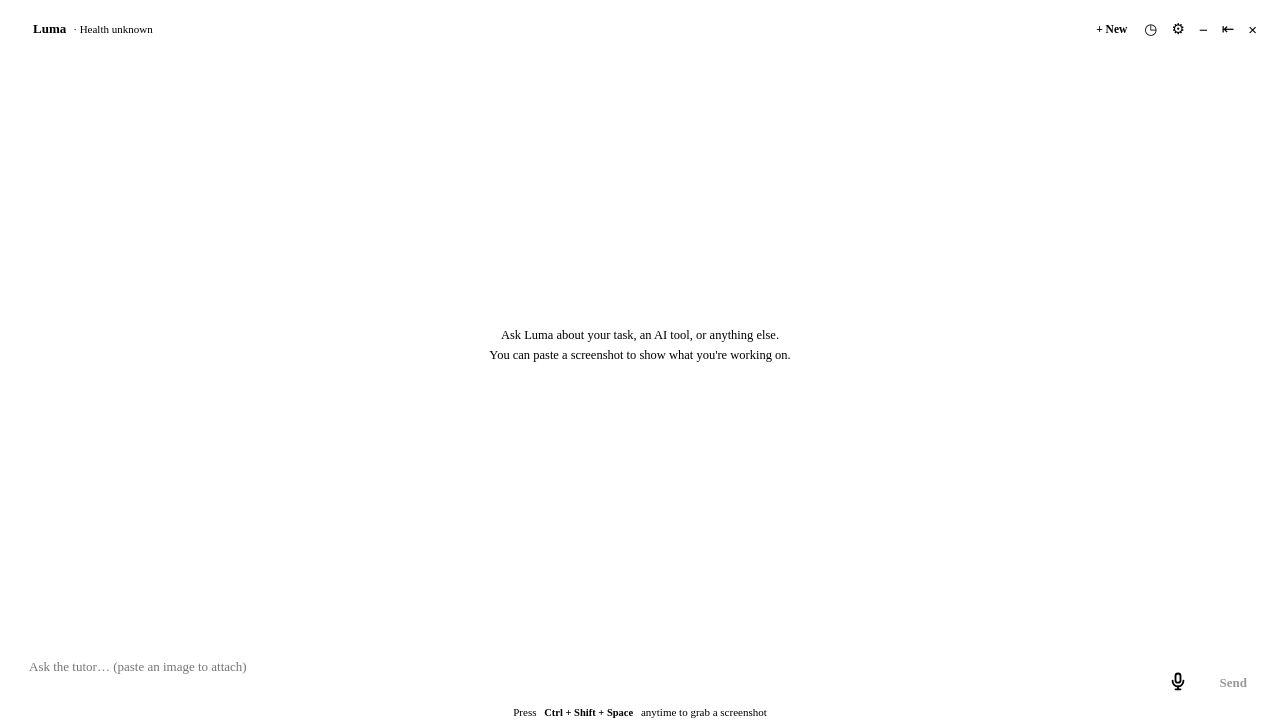
deferred suggestion context › opens and resumes a past conversation from the chat header
Click the button named "Review past conversations" at (1151, 29), box [1139,17,1162,41]
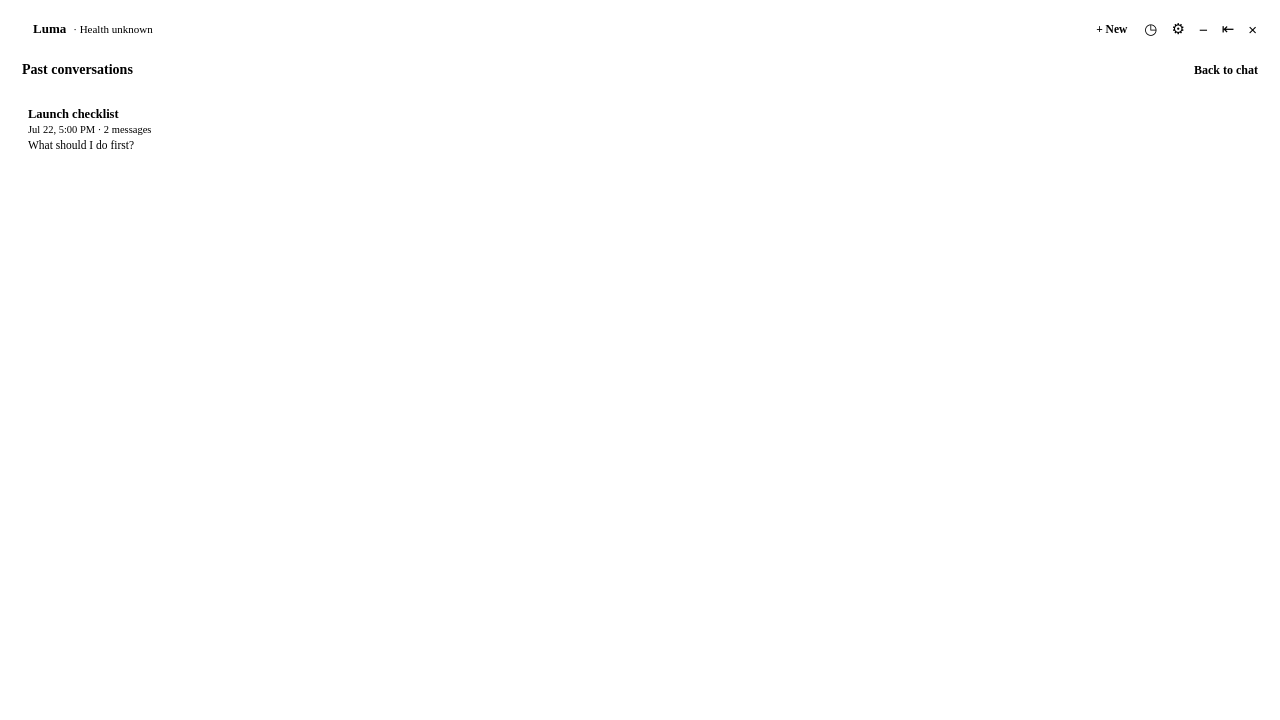
Expected: the text "Launch checklist" is shown
Expected: the text "What should I do first?" is shown, [28,139,134,151]
Click the text "Launch checklist" at (73, 114), box [28,107,119,121]
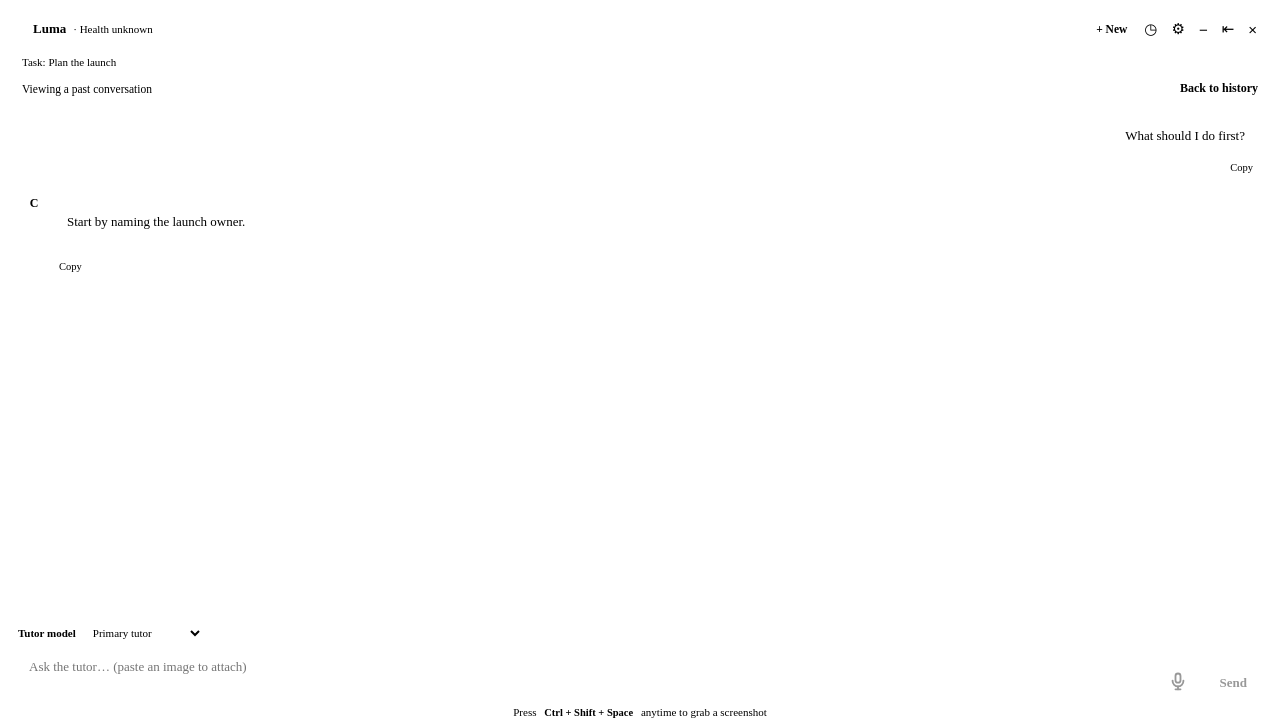
Expected: the text "Start by naming the launch owner." is shown, [67,212,245,231]
Expected: the text box with placeholder "Ask the tutor… (paste an image to attach)" is shown
Expected: the text "Viewing a past conversation" is shown, [22,82,152,94]
Type "What should I do next?" into the text box with placeholder "Ask the tutor… (paste an image to attach)" at (584, 675), box [18,650,1150,700]
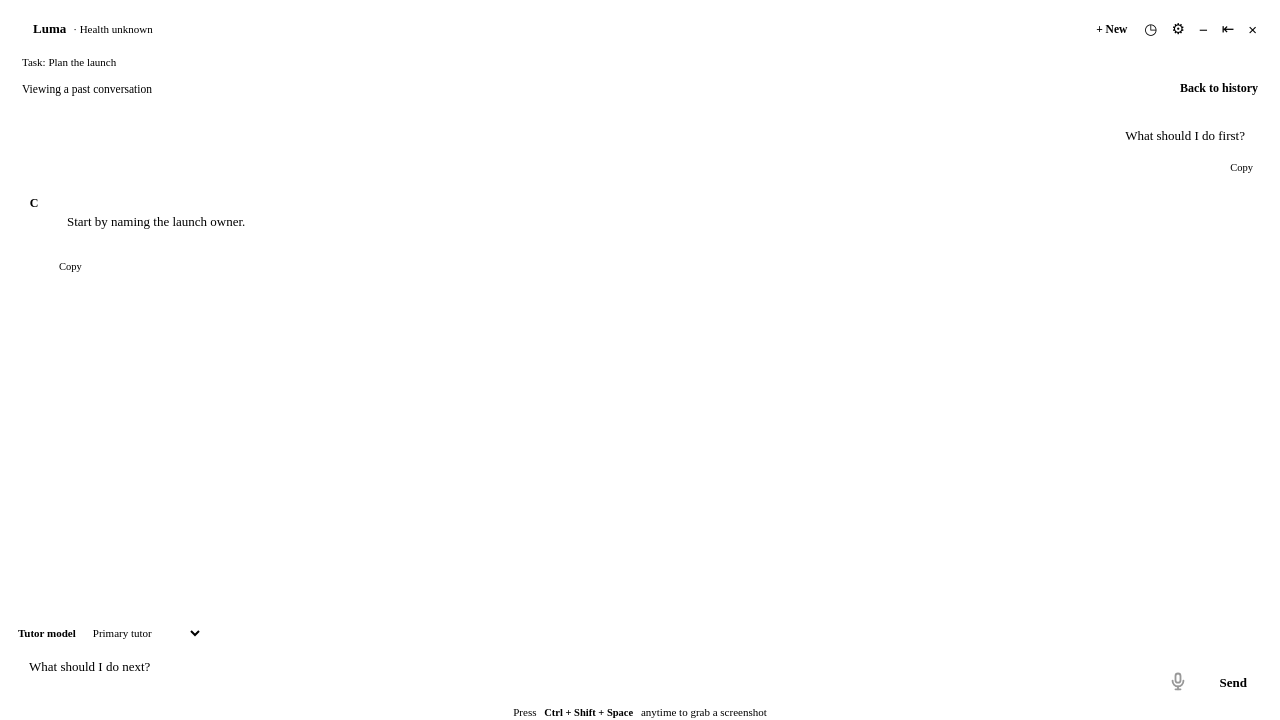
Click the button "Send" at (1233, 683), box [1204,666,1262,700]
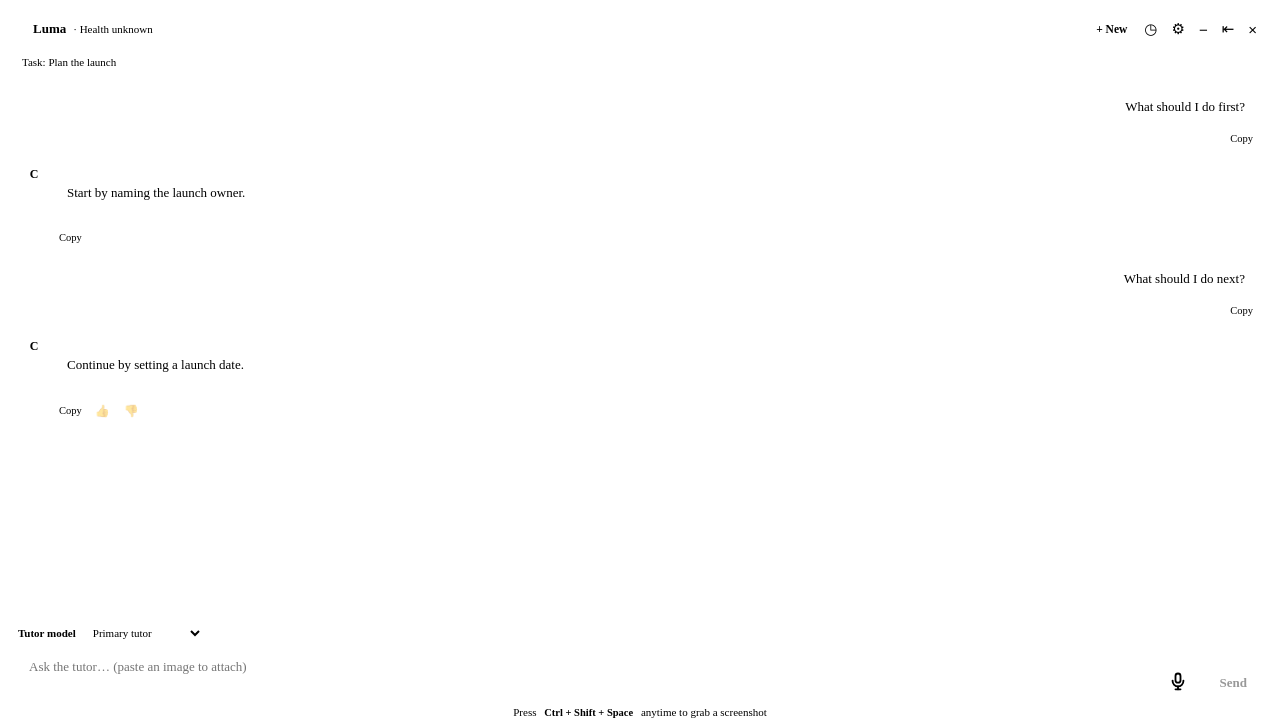
Expected: the text "What should I do first?" is shown, [1125,99,1245,114]
Expected: the text "What should I do next?" is shown, [1124,271,1245,286]
Expected: the text "Viewing a past conversation" is gone
